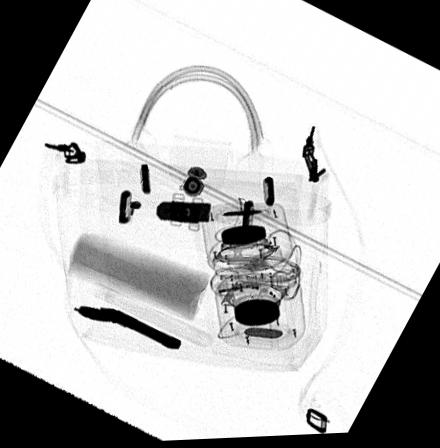Gun: (77, 305, 181, 353)
